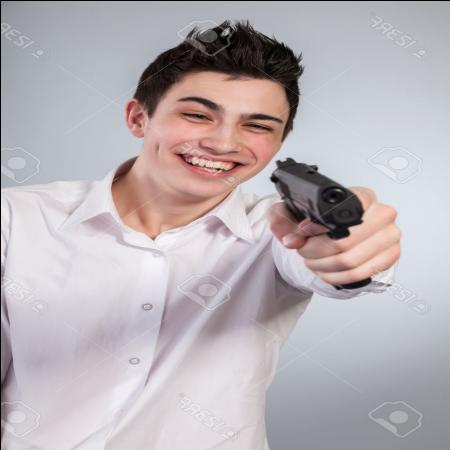Pistol: (264, 152, 374, 292)
